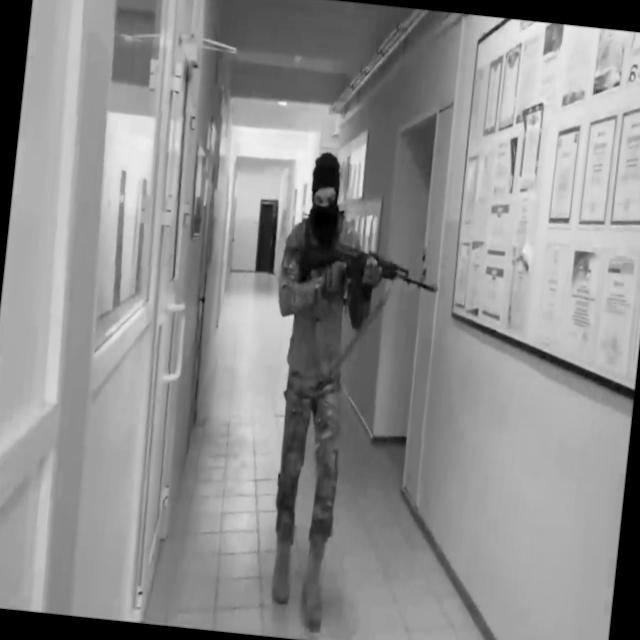gun: (296, 232, 444, 318)
person with a gun: (243, 147, 452, 640)
